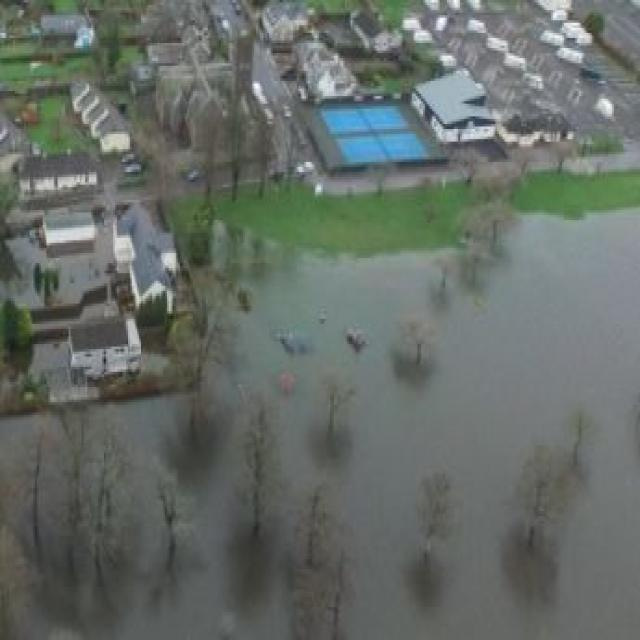flood: (24, 210, 640, 640), (0, 416, 34, 477)
house: (61, 298, 142, 388), (412, 74, 500, 146), (72, 84, 136, 148), (21, 153, 100, 200), (37, 202, 102, 255), (351, 8, 384, 48)
